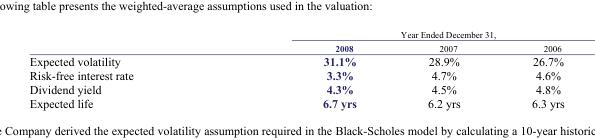table: (28, 28, 563, 109)
table column: (28, 28, 227, 109), (227, 28, 391, 109), (391, 28, 495, 109), (495, 28, 563, 109)
table column header: (28, 28, 563, 53)
table row: (28, 53, 563, 68), (28, 81, 563, 95), (28, 95, 563, 109), (28, 28, 563, 41), (28, 68, 563, 81), (28, 41, 563, 53)
table spanning cell: (227, 28, 563, 41)
